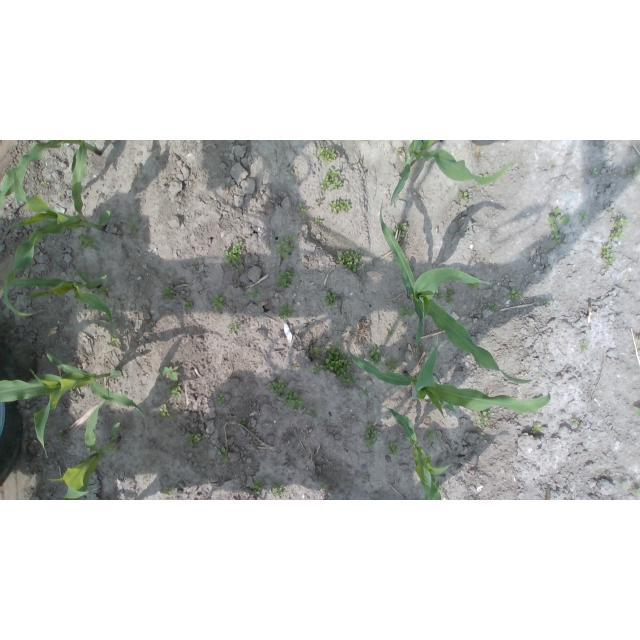Maize: (379, 201, 547, 384), (4, 140, 110, 318), (342, 334, 551, 422), (1, 349, 148, 456), (391, 140, 518, 205), (3, 267, 115, 335), (374, 404, 453, 500), (48, 399, 120, 500), (0, 140, 102, 210)
Weeds: (323, 345, 356, 387), (547, 207, 569, 244), (336, 249, 363, 273), (319, 167, 343, 193), (220, 242, 244, 265), (276, 235, 297, 260), (283, 390, 308, 411), (276, 267, 298, 289), (610, 217, 630, 241), (363, 424, 380, 448), (601, 245, 617, 268), (77, 232, 97, 250), (267, 378, 287, 396), (329, 198, 351, 214), (159, 365, 179, 382), (317, 147, 337, 163), (278, 303, 294, 322), (391, 223, 407, 242), (368, 345, 382, 366), (166, 383, 183, 399), (476, 410, 491, 428), (160, 287, 177, 302), (398, 303, 415, 318), (211, 294, 226, 310), (251, 478, 264, 496), (324, 293, 339, 308), (187, 432, 202, 447), (271, 482, 285, 498), (507, 287, 522, 301), (386, 442, 399, 457), (98, 284, 110, 300), (109, 333, 122, 347), (130, 221, 143, 234), (385, 359, 397, 373), (445, 288, 455, 304), (425, 428, 437, 441), (159, 403, 170, 417), (530, 422, 542, 434), (220, 447, 229, 462), (247, 289, 260, 299), (579, 212, 590, 223), (313, 363, 324, 374), (627, 166, 639, 176), (308, 408, 320, 418), (229, 323, 240, 333), (459, 191, 470, 201), (433, 289, 443, 300), (58, 431, 69, 441), (163, 485, 174, 495), (218, 393, 227, 405), (299, 203, 308, 215), (468, 282, 480, 291), (185, 299, 194, 310), (386, 328, 395, 339), (580, 341, 589, 352), (490, 303, 499, 313), (109, 444, 120, 452), (608, 207, 617, 216), (314, 216, 322, 226), (632, 487, 640, 497), (315, 347, 322, 358), (238, 418, 246, 426), (319, 481, 327, 489), (590, 168, 599, 175), (621, 482, 630, 489), (570, 418, 580, 424), (365, 388, 372, 396), (362, 477, 370, 484), (634, 408, 640, 417), (195, 260, 200, 270), (478, 174, 488, 179), (111, 313, 116, 323), (543, 299, 551, 305), (41, 181, 50, 186), (397, 148, 402, 156), (235, 269, 240, 276), (310, 345, 314, 353), (302, 482, 307, 488), (315, 198, 322, 202), (293, 366, 298, 370), (290, 170, 294, 175), (329, 471, 334, 474)
